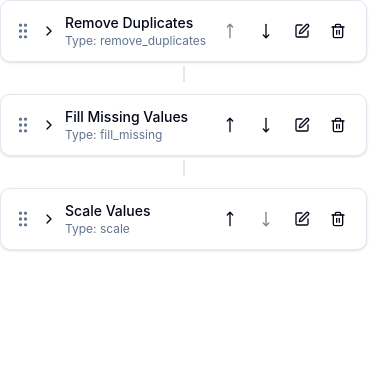
Test: TransformationChainView › Expand/Collapse Functionality › should expand step details when expand button clicked
This screenshot has width=384, height=385.
Click the button named "expand step": {"x": 49, "y": 31} [41,23,57,39]
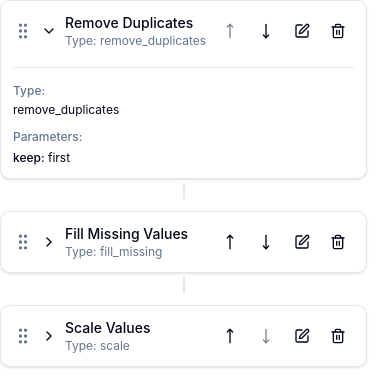
Expected: the text "Parameters:" is shown, [13,129,82,144]
Expected: the text "keep:" is shown, [13,150,45,165]
